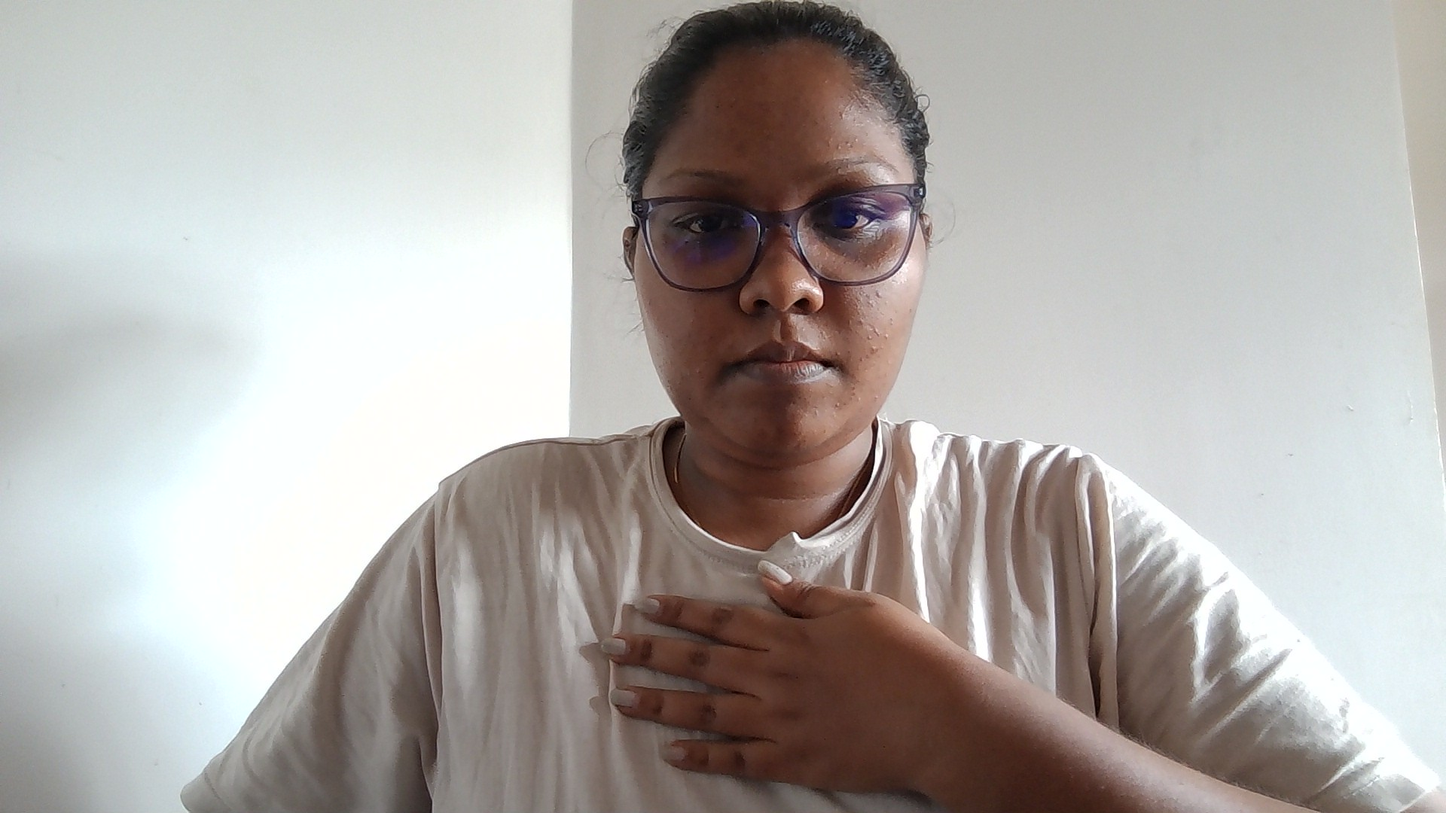Please: (501, 514, 1278, 799)
